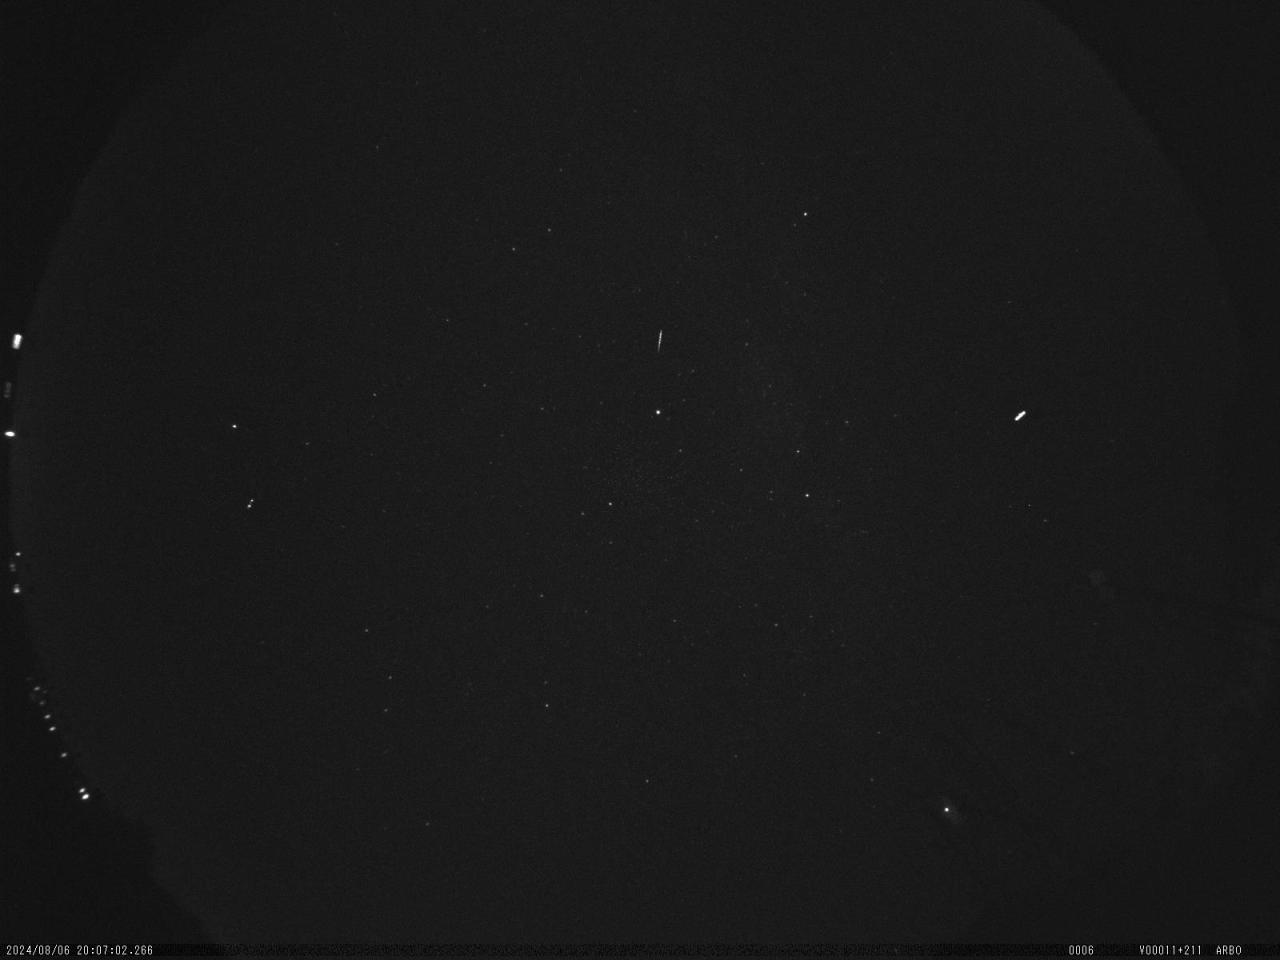Meteor: (653, 325, 667, 356)
